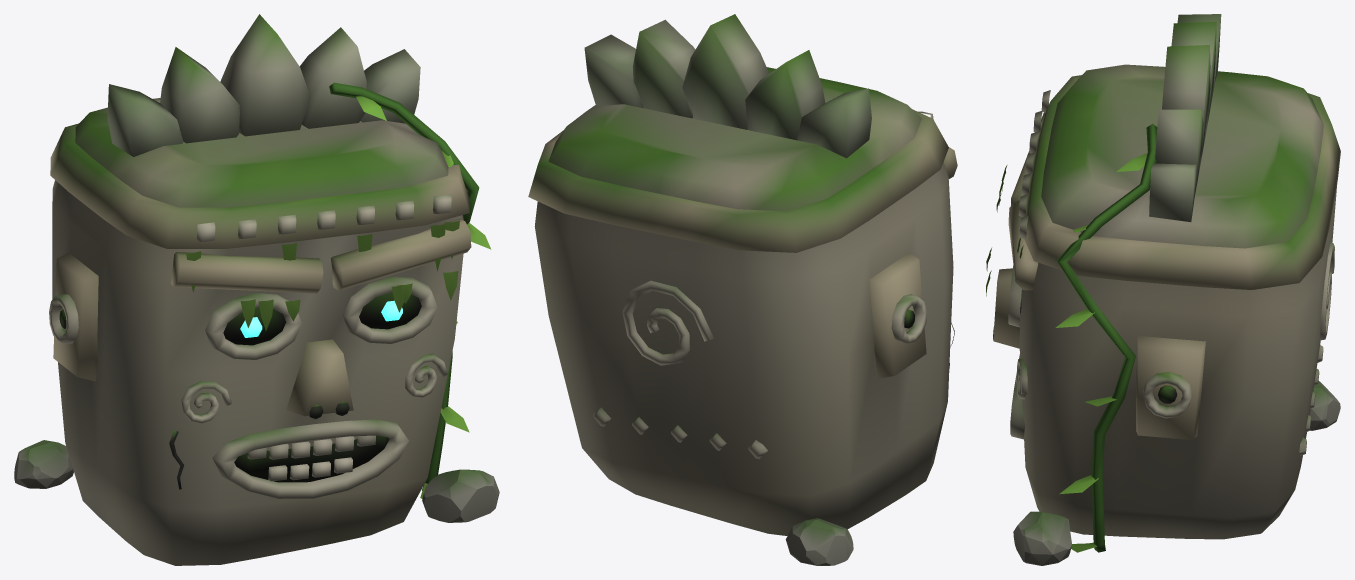
File: idol_head.glb
3 renders of one model, left to right at view 1: azimuth 30°, elevation 25°; view 2: azimuth 150°, elevation 25°; view 3: azimuth 270°, elevation 25°, orthographic. The views are drawn at different scales.
Visible parts, largest first — view 1: idol_head; view 2: idol_head; view 3: idol_head.
Part boxes in pixels (x1,y1,x2,y2): idol_head: (14, 14, 499, 565); idol_head: (528, 14, 957, 565); idol_head: (986, 14, 1340, 565).
Size of the model in its own units: 1.76 by 2.11 by 1.5.
